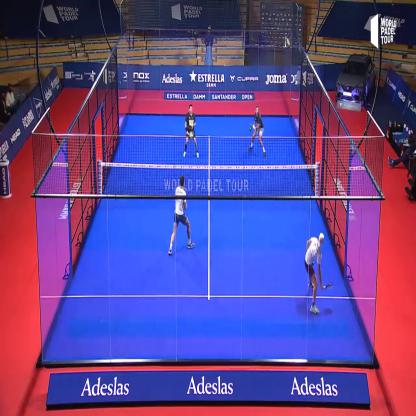ball: (286, 36, 292, 48)
